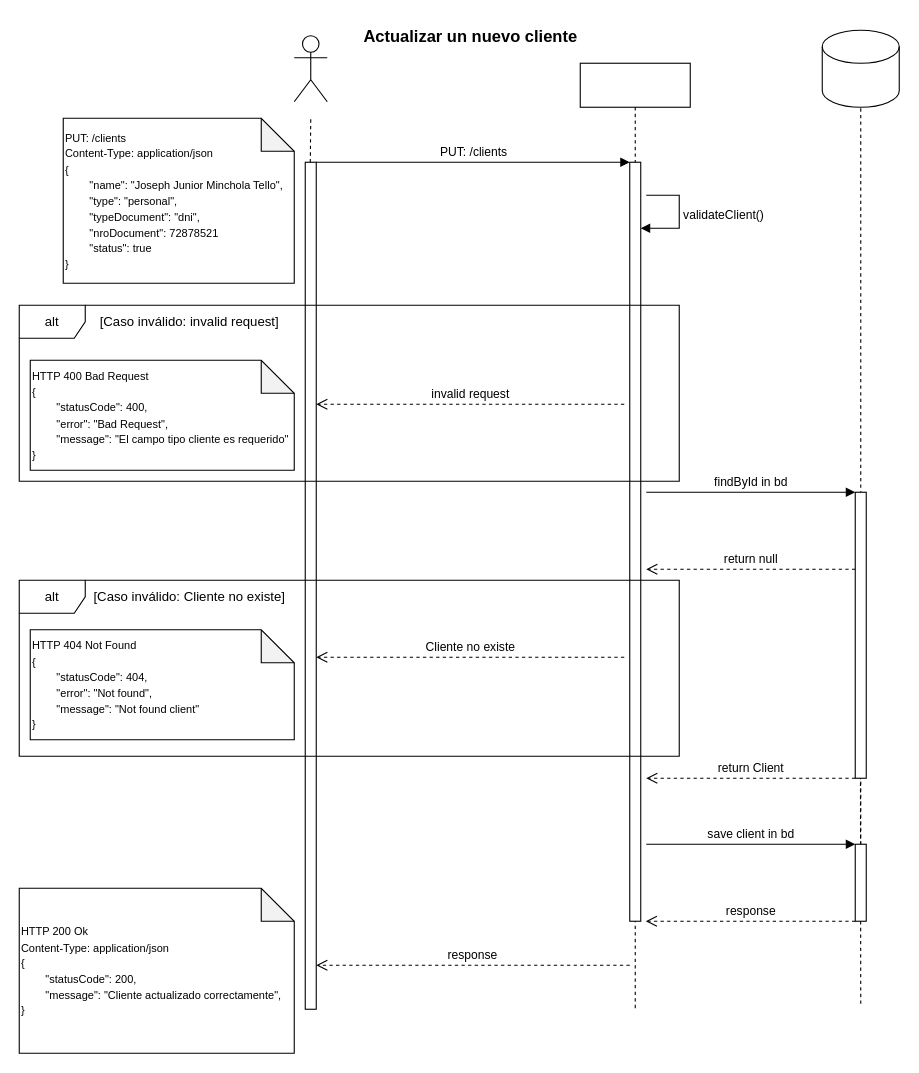
Some shapes in this 919 by 1073 pixel diagram are drawn without their labels. Each missing label, with the box of its shape:
Cliente: (293, 35, 327, 102)
MongoDb: (821, 29, 899, 107)
ms-cliente: (579, 62, 690, 1009)
